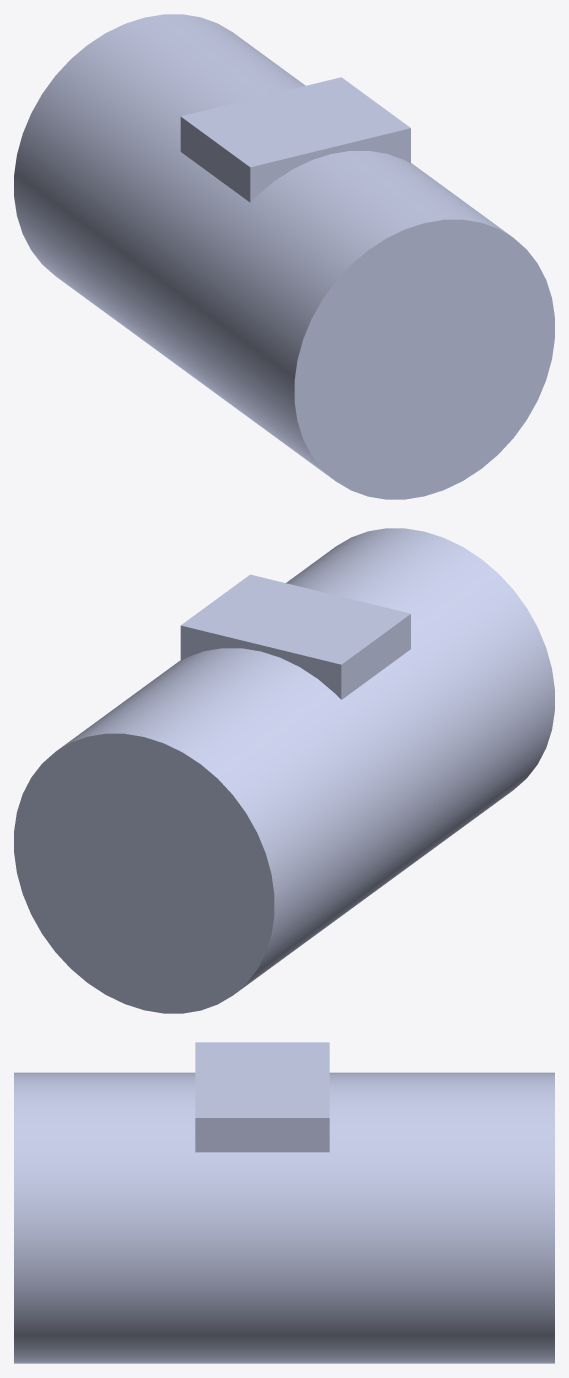
The model's file is jaco_link_base.dae.
3 renders of one model, top to bottom at view 1: azimuth 30°, elevation 25°; view 2: azimuth 150°, elevation 25°; view 3: azimuth 270°, elevation 25°, orthographic. The views are drawn at different scales.
Visible parts, largest first — view 1: Actor0; view 2: Actor0; view 3: Actor0.
Part boxes in pixels (x1,y1,x2,y2): Actor0: (14,14,554,499); Actor0: (14,528,554,1013); Actor0: (14,1042,554,1363).
Size of the model in its own units: 0.0823 by 0.0844 by 0.1535.
